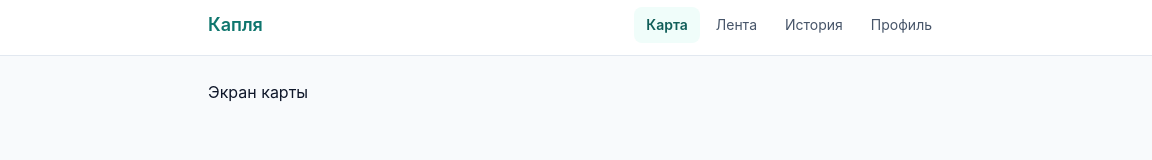
Test case: Layout — адаптивная навигация › переход по навигации меняет экран
Click the link "Профиль" at point(901, 24), box [871,16,932,33]
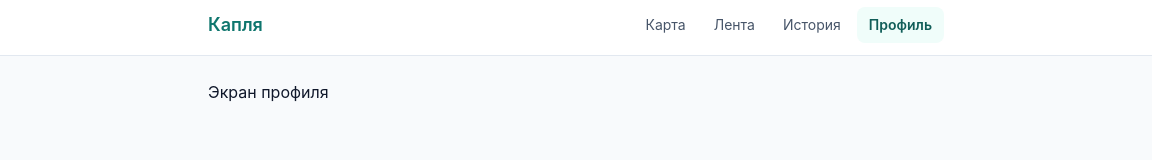
Now the text "Экран профиля" is shown, box [208,82,328,102]
